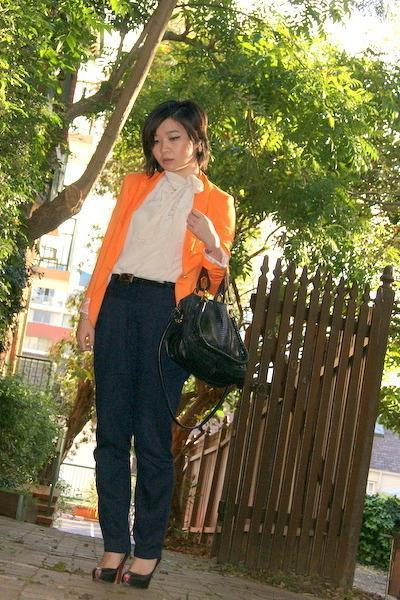bag: (164, 252, 251, 395)
jacket: (67, 171, 234, 322)
pants: (92, 273, 195, 563)
shirt: (112, 163, 203, 282)
shoe: (96, 549, 157, 587)
